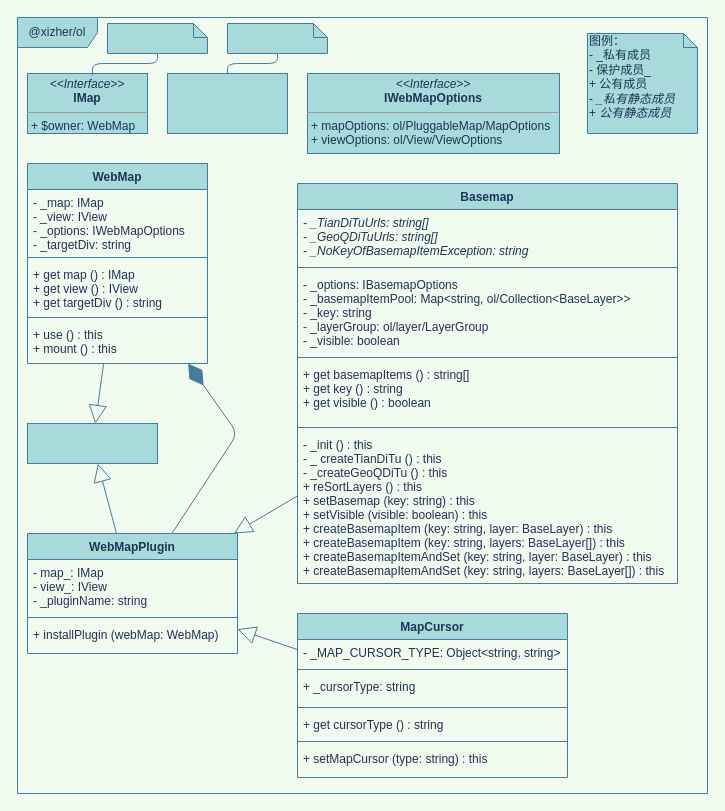
The diagram is 725 pixels wide and 811 high, and some of its shapes have lost their labels. Each missing label, with the centre of its shape:
"<<Interface>> IView + $owner: WebMap" goes at [227,103].
"@xizher/observer" goes at [92,443].
"extends ol/Map" goes at [277,38].
"extends ol/View" goes at [157,38].
